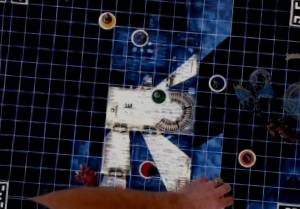blue: (204, 71, 226, 93)
green: (147, 86, 169, 107)
orange: (234, 145, 256, 170)
red: (135, 157, 156, 179)
violet: (126, 24, 151, 48)
yellow: (96, 9, 118, 31)
